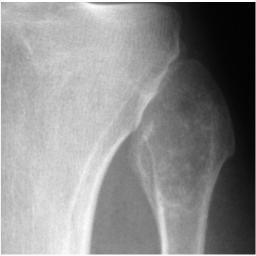cancer: (127, 62, 235, 254)
